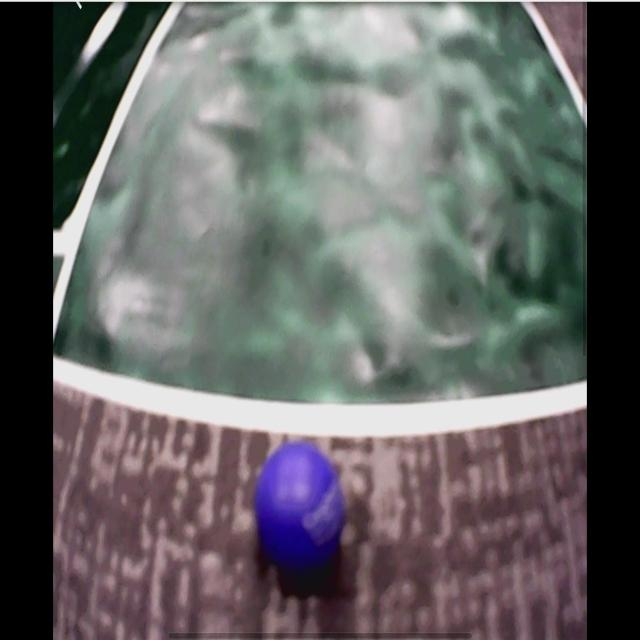ball: (254, 445, 345, 569)
